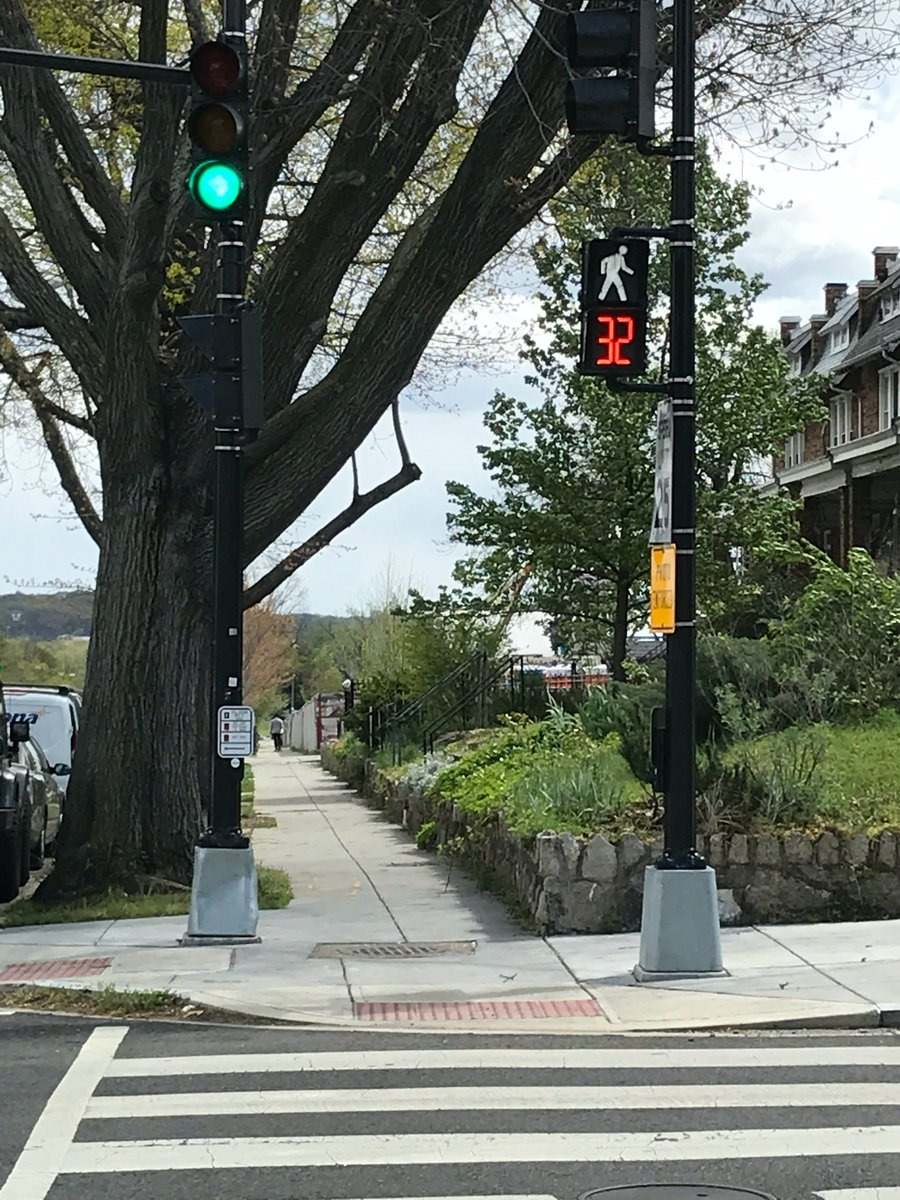car: (0, 718, 67, 901)
crosswalk: (47, 1035, 899, 1199)
pedestrian_walk: (591, 243, 648, 307)
pole: (635, 0, 723, 980)
vegetation: (0, 0, 598, 890)
